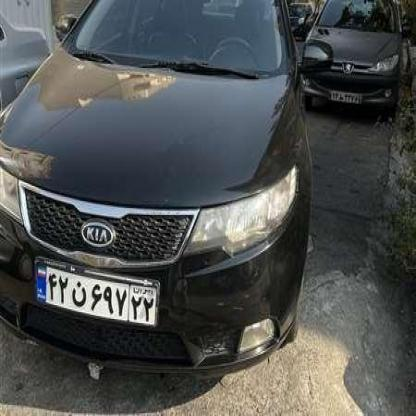Car: (0, 0, 314, 391), (294, 0, 409, 122)
